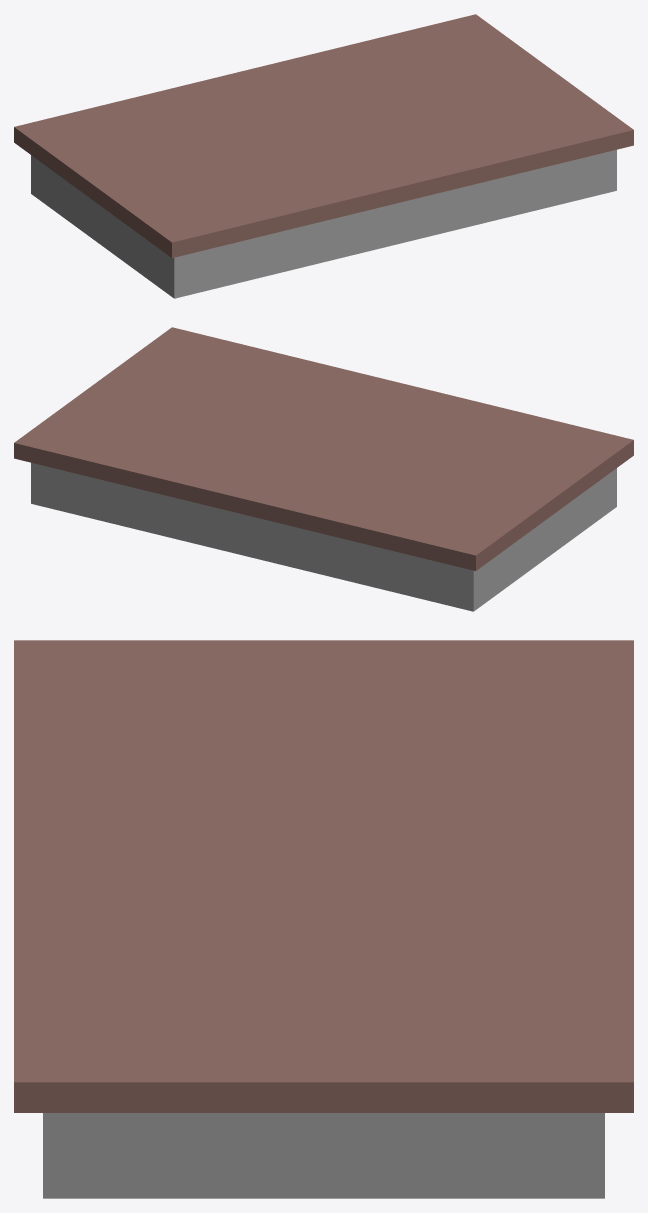
The model's file is egy_lowshelf.fbx.
3 views of the same model, one above another, from view 1: azimuth 30°, elevation 25°; view 2: azimuth 150°, elevation 25°; view 3: azimuth 270°, elevation 25° (orthographic). The views are drawn at different scales.
Visible parts, largest first — view 1: pCube62; view 2: pCube62; view 3: pCube62.
Boxes of the visible parts, x1,y1,x2,y2 form: pCube62: [14, 14, 633, 298]; pCube62: [14, 327, 633, 611]; pCube62: [14, 640, 633, 1198].
Bounding box in the file's own units: 3.86 × 0.5104 × 2.29.
